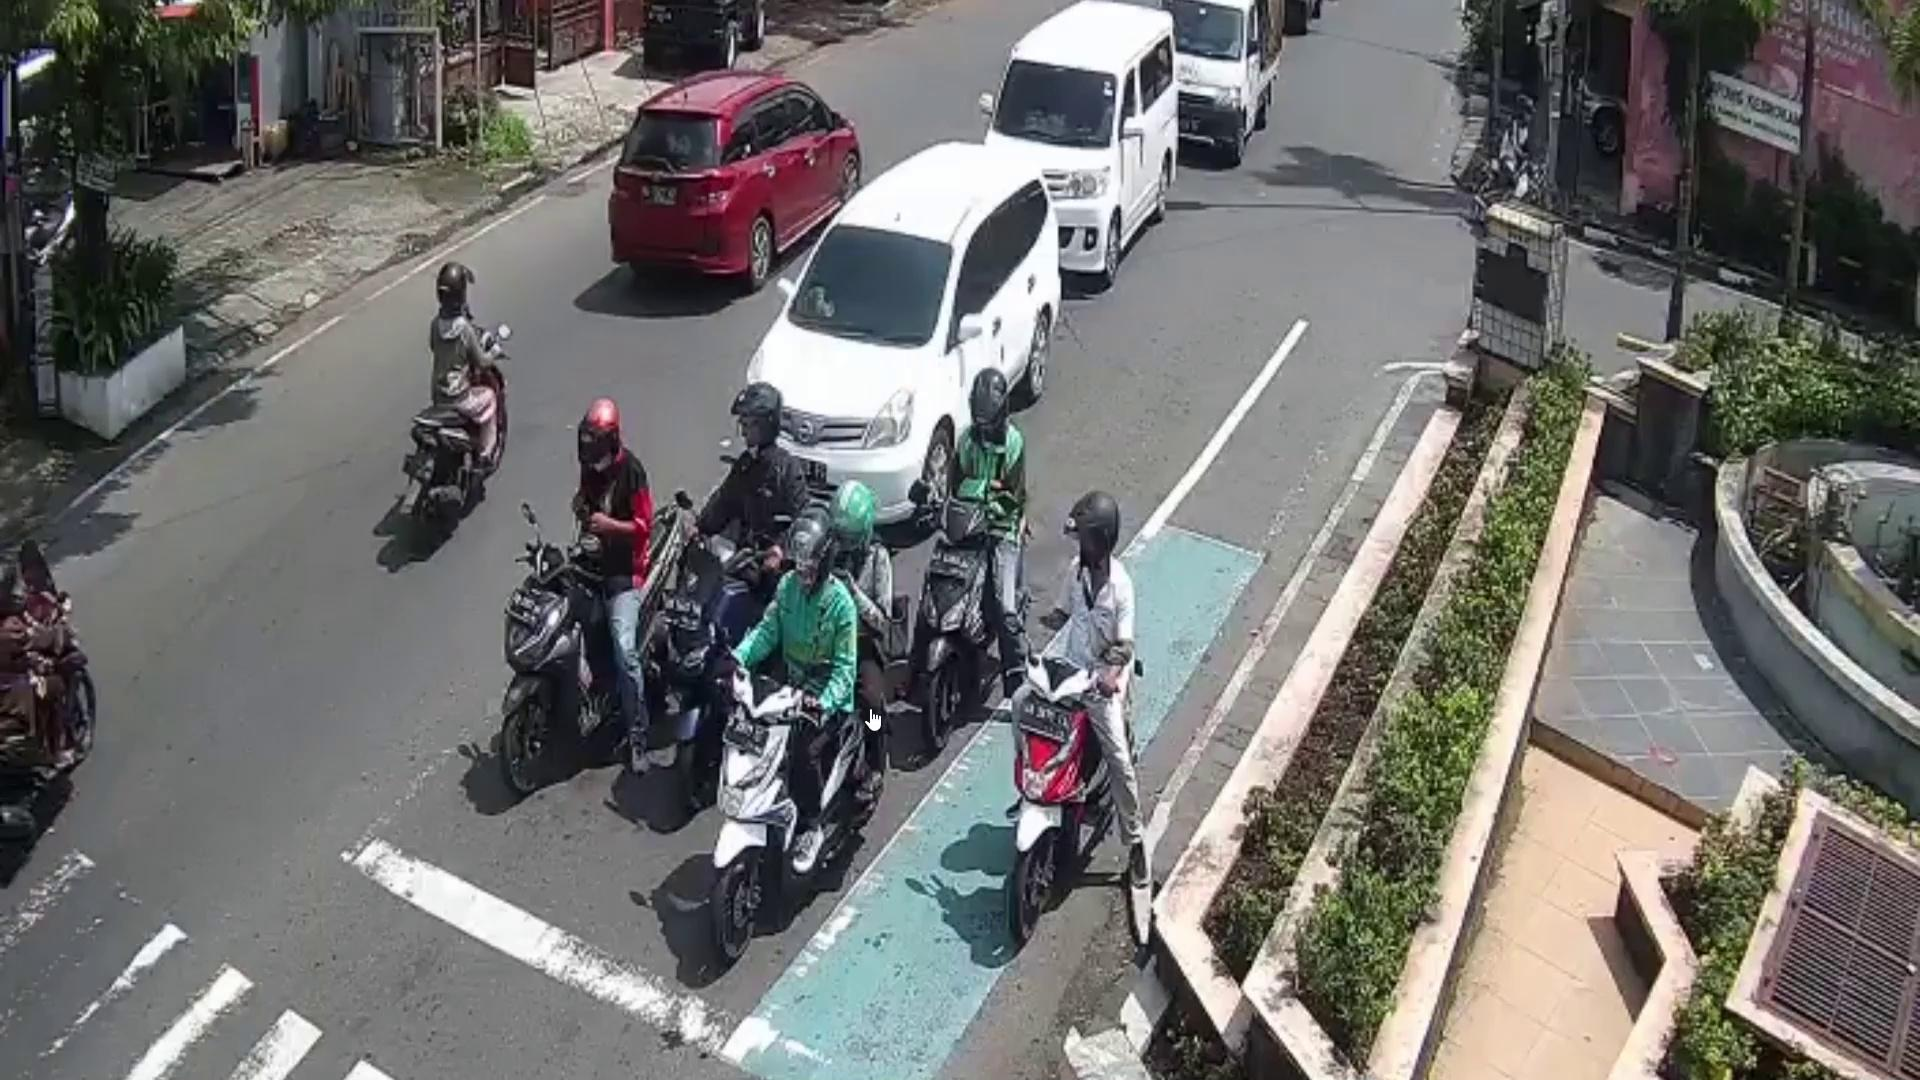car: (728, 137, 1062, 538), (607, 70, 860, 290), (989, 0, 1180, 273), (1163, 0, 1280, 158)
motorbike: (489, 501, 702, 800), (711, 669, 870, 959), (1013, 653, 1116, 936), (401, 324, 514, 538), (914, 501, 998, 753)
